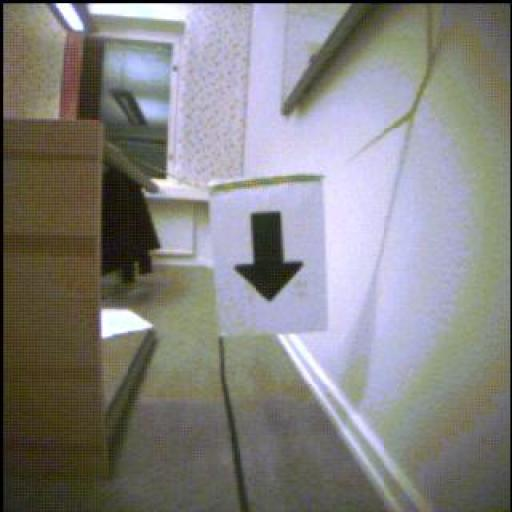arrow: (237, 212, 304, 302)
